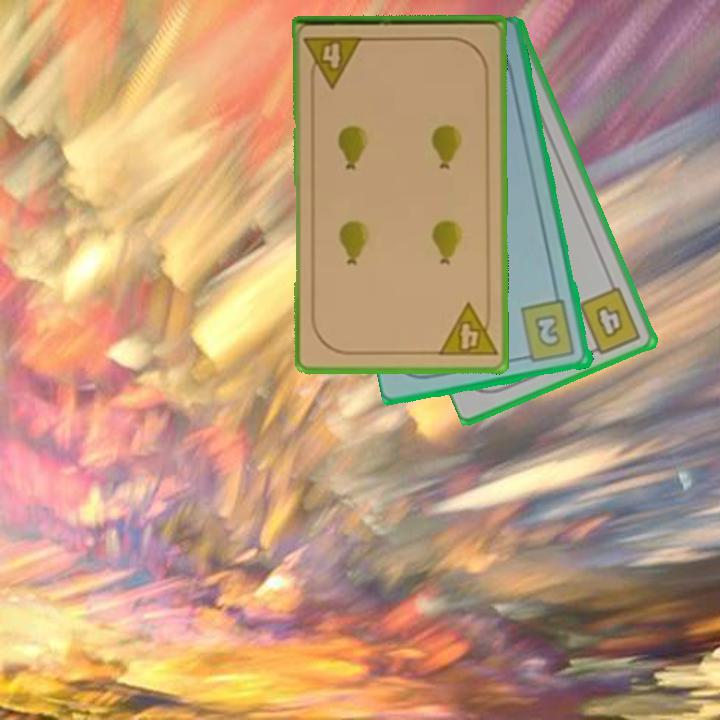2b: (517, 297, 579, 366)
4b: (575, 283, 644, 359)
4p: (435, 300, 500, 360), (301, 33, 366, 90)
